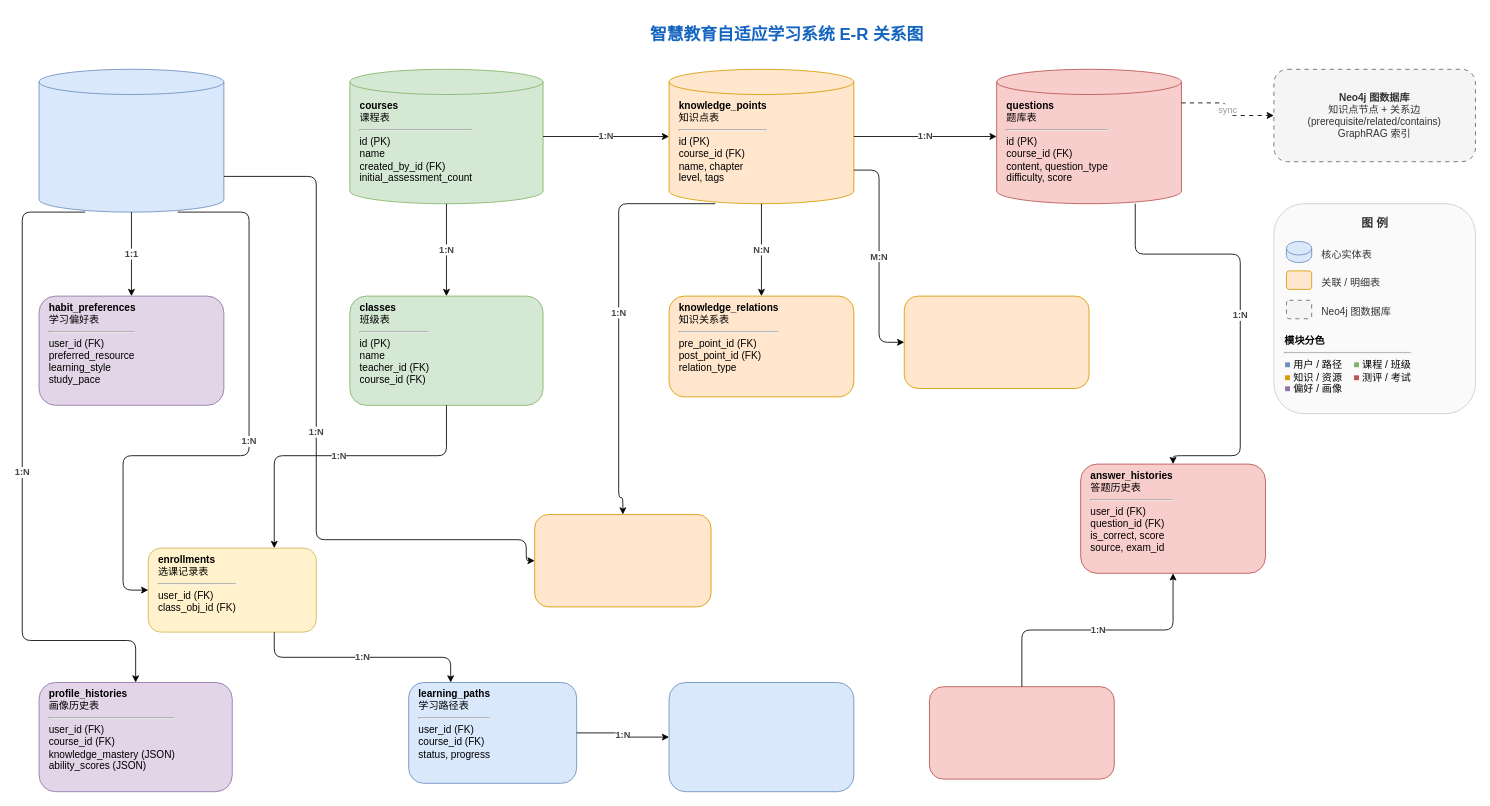
Image size: 1490x806. Some labels were removed from this diagram. Here are the shapes that lost their labels. From the top down, the centre of each, then its label:
[131,140]: users 用户表 id (PK) username role: student/teacher/admin real_name student_id
[996,341]: resources 学习资源表 course_id (FK) title, resource_type M2M: knowledge_points
[622,560]: knowledge_mastery 知识掌握度表 user_id (FK) knowledge_point_id (FK) mastery_rate (0~1)
[761,737]: path_nodes 路径节点表 path_id (FK) knowledge_point_id (FK) node_type, status order
[1021,732]: exams 考试表 course_id (FK) exam_type duration, total_score
